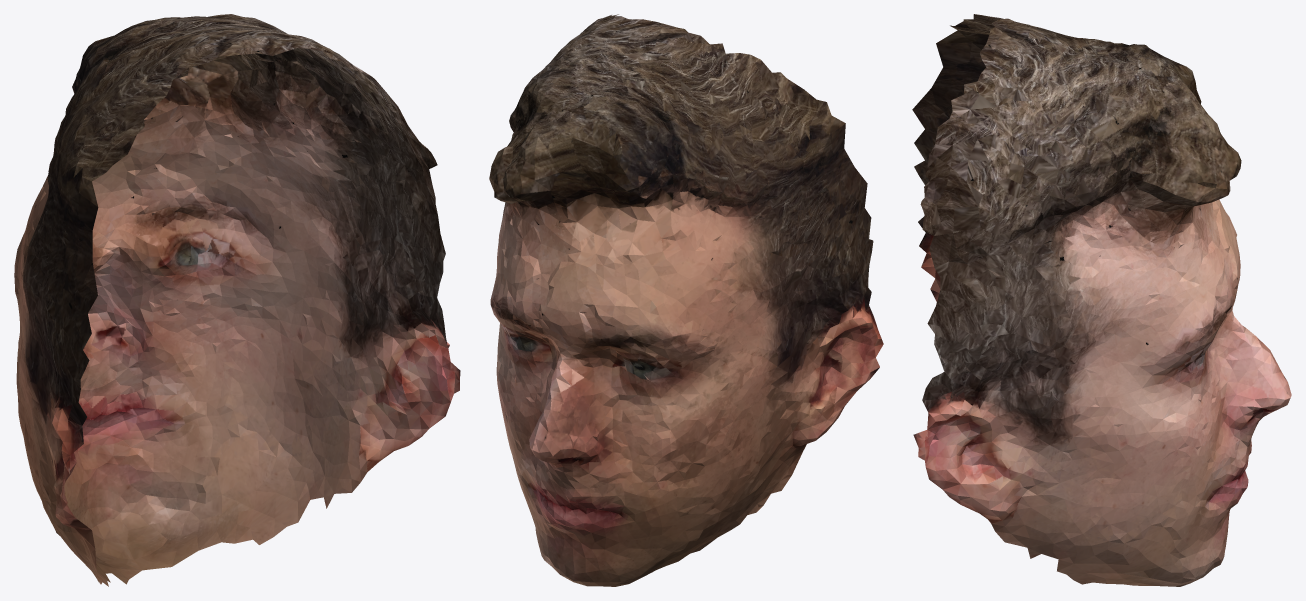
3 renders of one model, left to right at view 1: azimuth 30°, elevation 25°; view 2: azimuth 150°, elevation 25°; view 3: azimuth 270°, elevation 25°, orthographic. The views are drawn at different scales.
Visible parts, largest first — view 1: texturedMesh; view 2: texturedMesh; view 3: texturedMesh.
Boxes of the visible parts, x1=… form: texturedMesh: x1=14, y1=14, x2=460, y2=586; texturedMesh: x1=489, y1=14, x2=883, y2=586; texturedMesh: x1=912, y1=14, x2=1291, y2=586.
Size of the model in its own units: 0.5762 by 0.8119 by 0.5106.
Materials: 1 (1 with a texture image).
